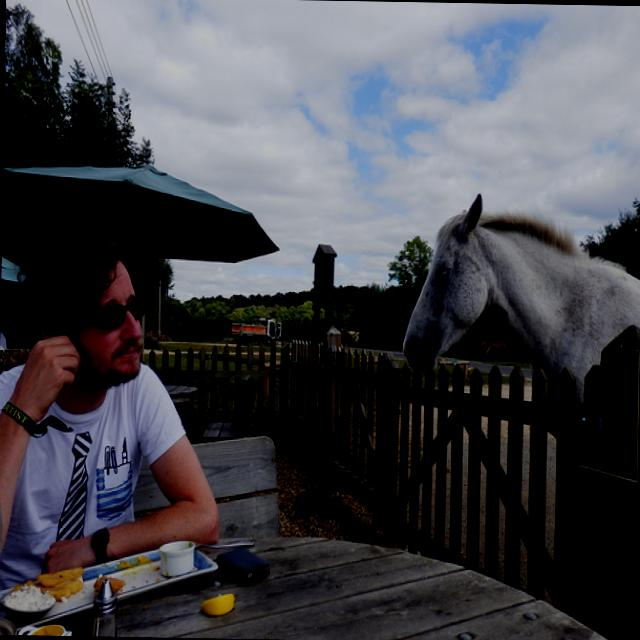Vehicle: (231, 317, 277, 348)
